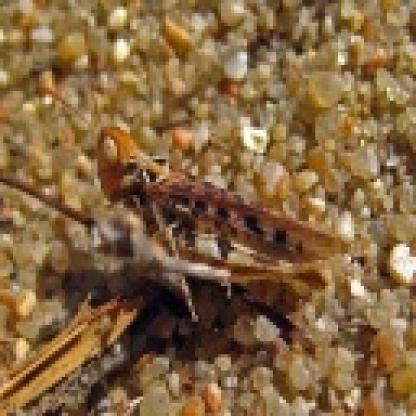grasshopper: (93, 114, 346, 324)
